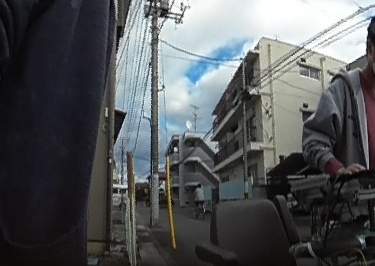person: (194, 181, 205, 213)
